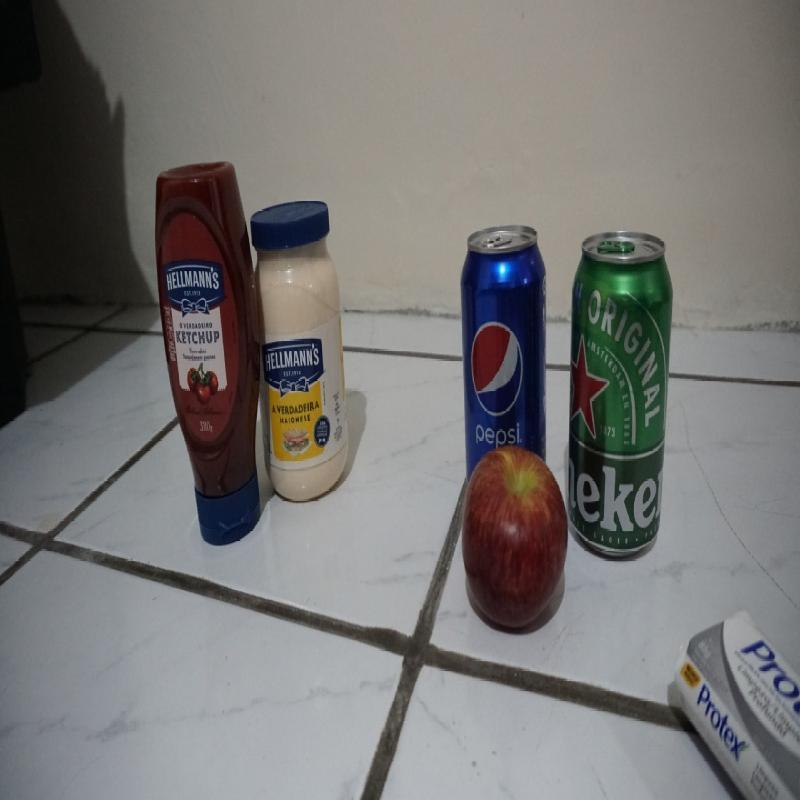Apple: (466, 451, 566, 630)
Beer can: (572, 218, 677, 558)
Ketchup: (151, 167, 268, 535)
Mayonnaise: (246, 208, 354, 501)
Soap: (673, 596, 800, 800)
Soda can: (460, 225, 548, 450)
